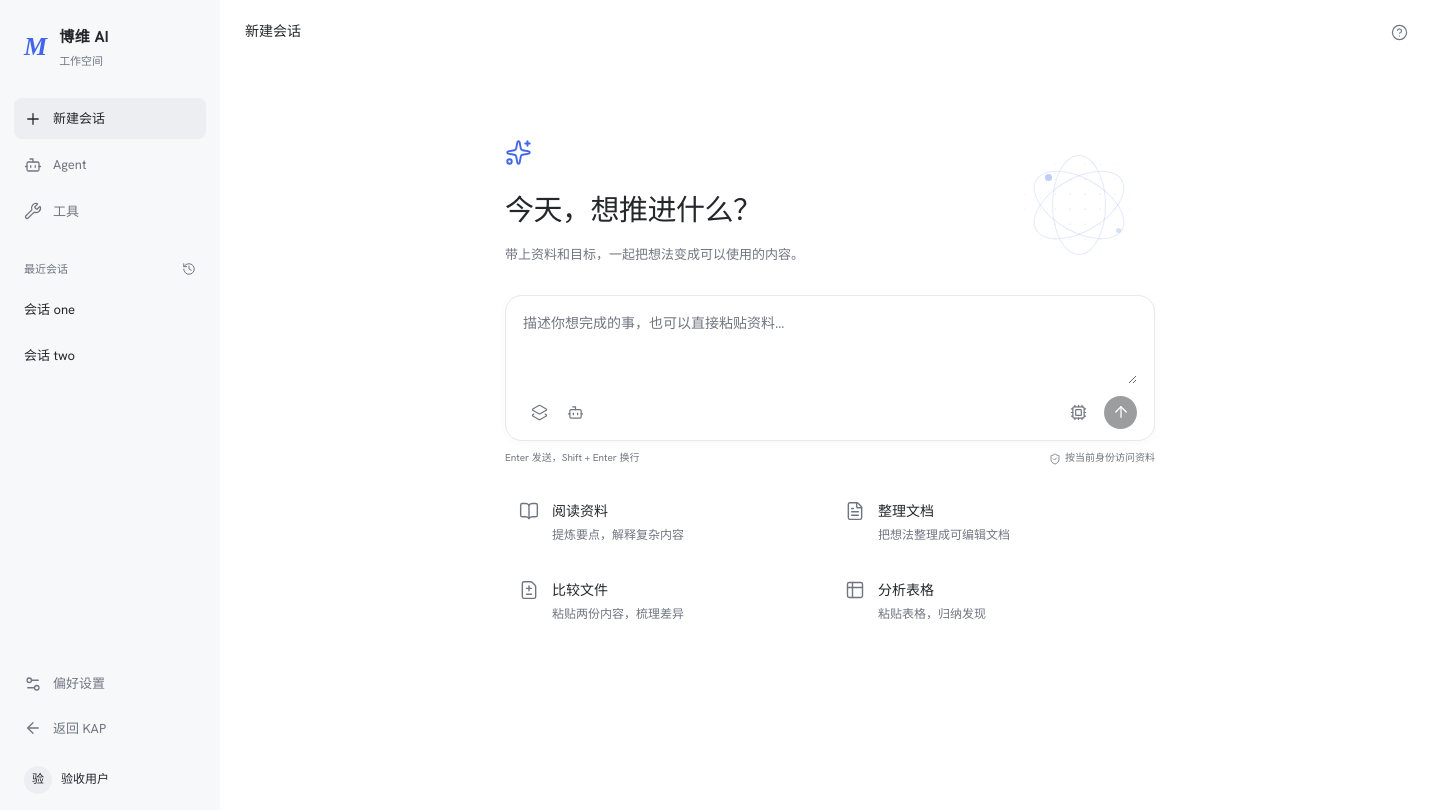
Test case: AI workspace lifecycle › can remove an Agent while retaining the same draft and defaults to an available company library
The width and height of the screenshot is (1440, 810).
Type "保留这段输入" into the text box named "消息".
click(830, 348); type("保留这段输入")  # box 523,311 -> 1137,384
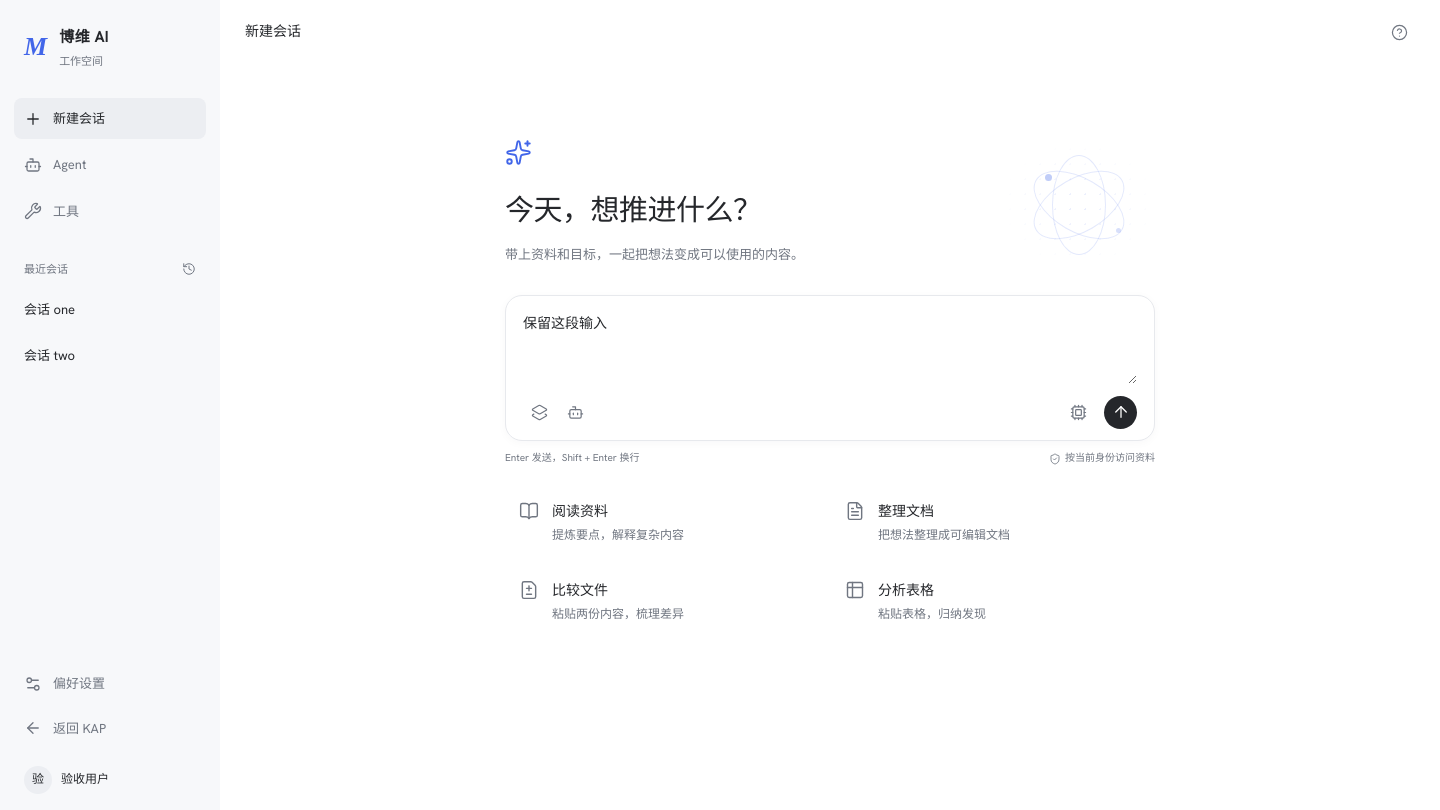
Click the button named "添加智能体".
click(575, 412)  # box 559,396 -> 591,428
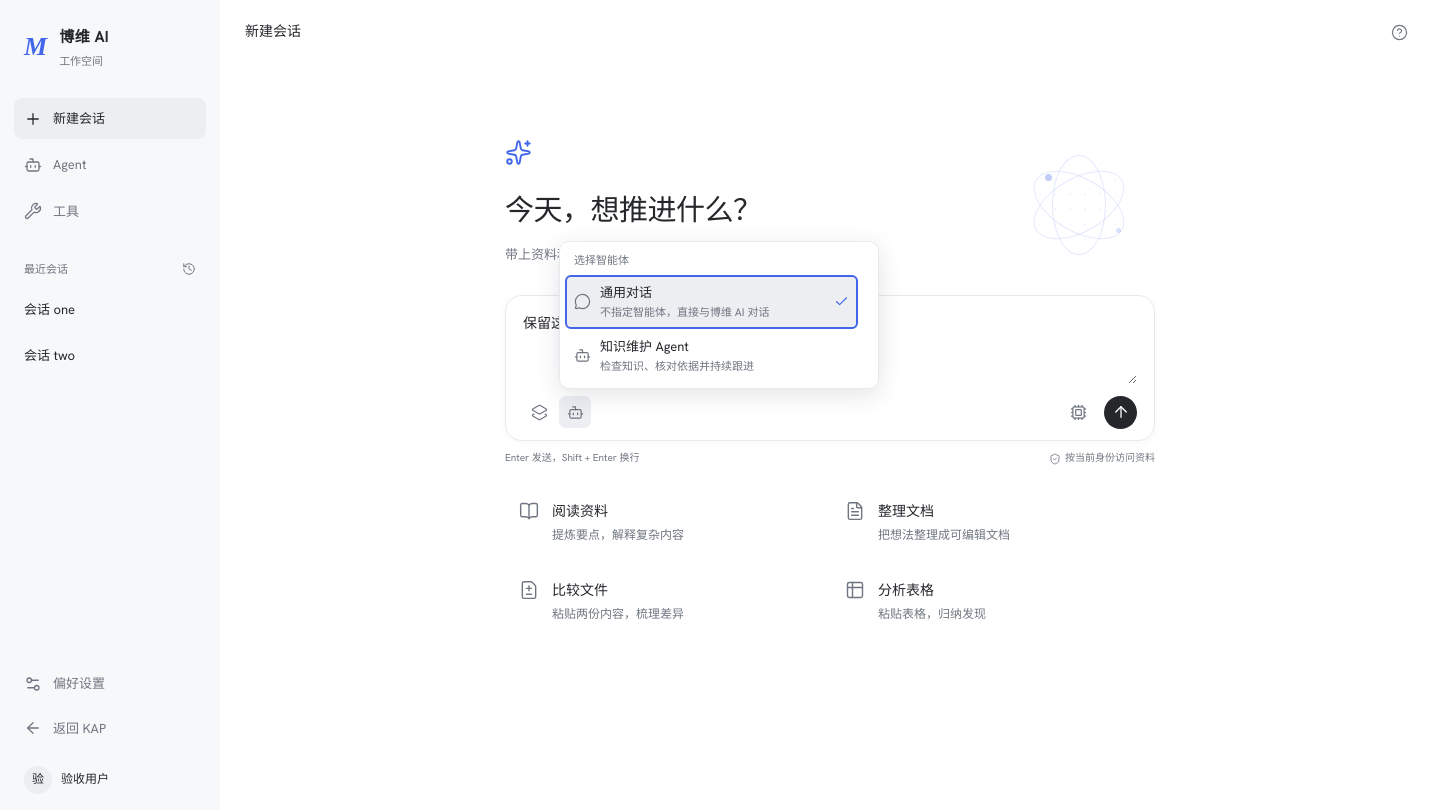
Click the menu item "知识维护 Agent 检查知识、核对依据并持续跟进".
click(644, 347)  # box 565,328 -> 858,382
Wait 1 ms
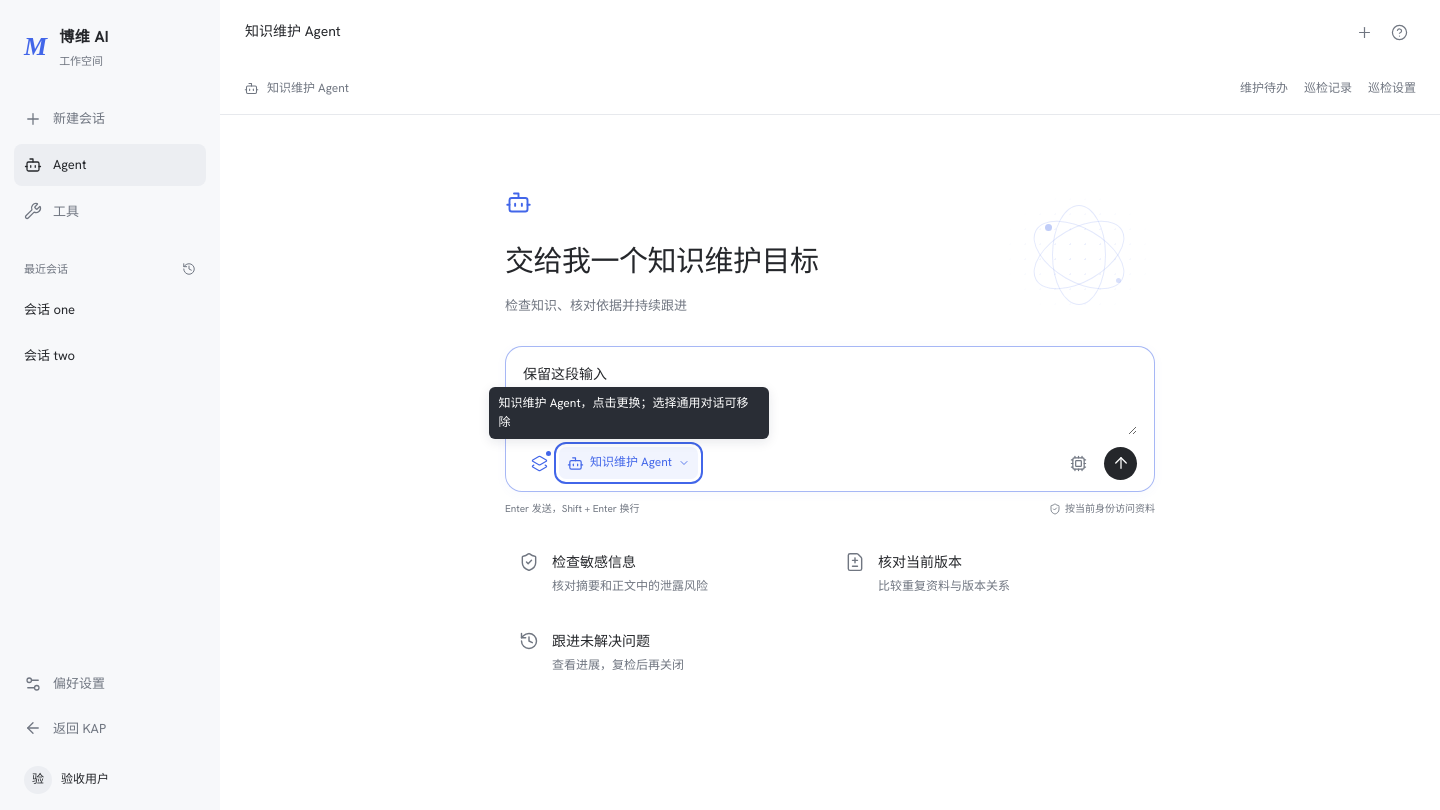
Check: the button named "添加上下文" has attribute data-selected="true", box 523,447 -> 555,479
Click the button "知识维护 Agent".
click(628, 463)  # box 559,447 -> 698,479
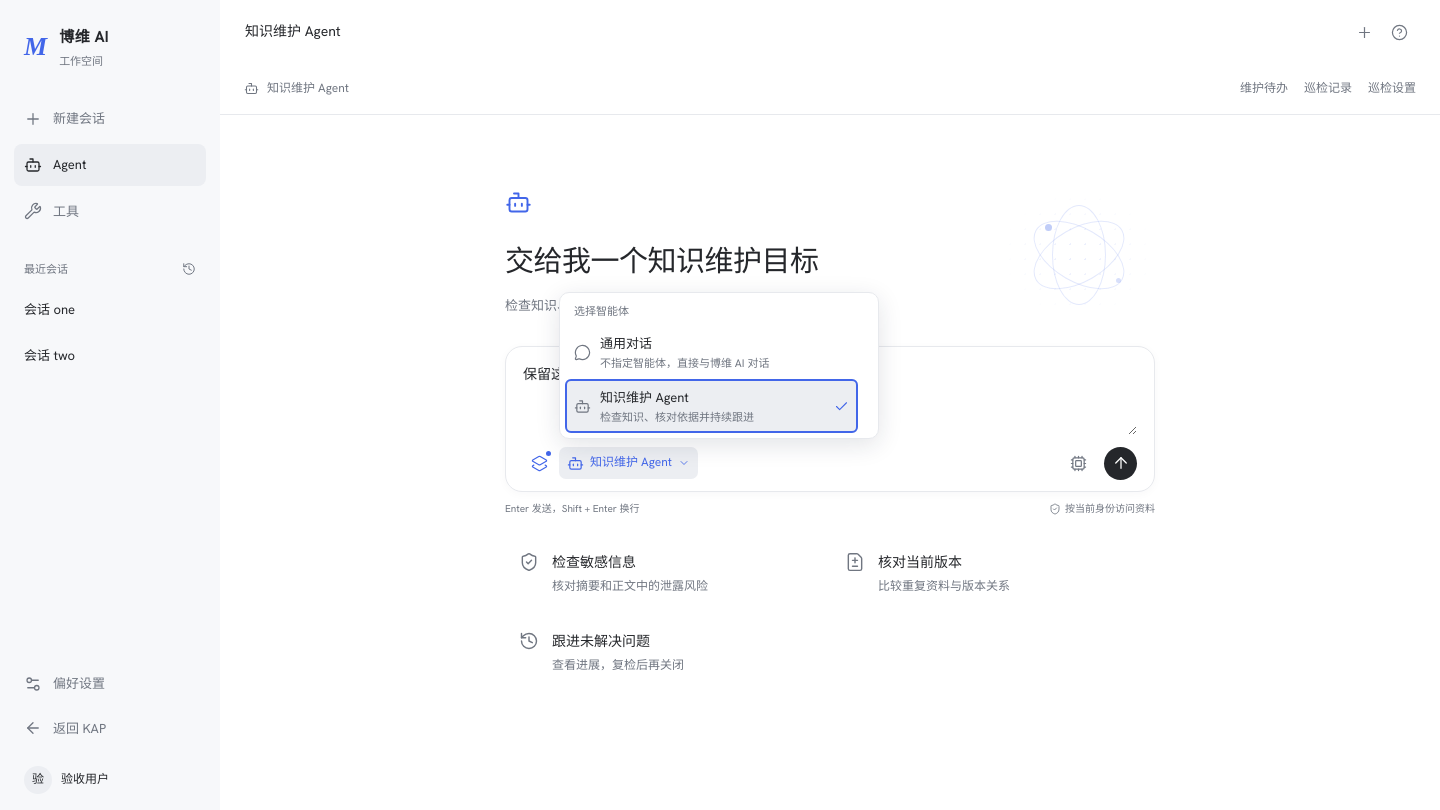
Click the menu item "通用对话 不指定智能体，直接与博维 AI 对话".
click(626, 343)  # box 565,325 -> 858,379
Wait 1 ms
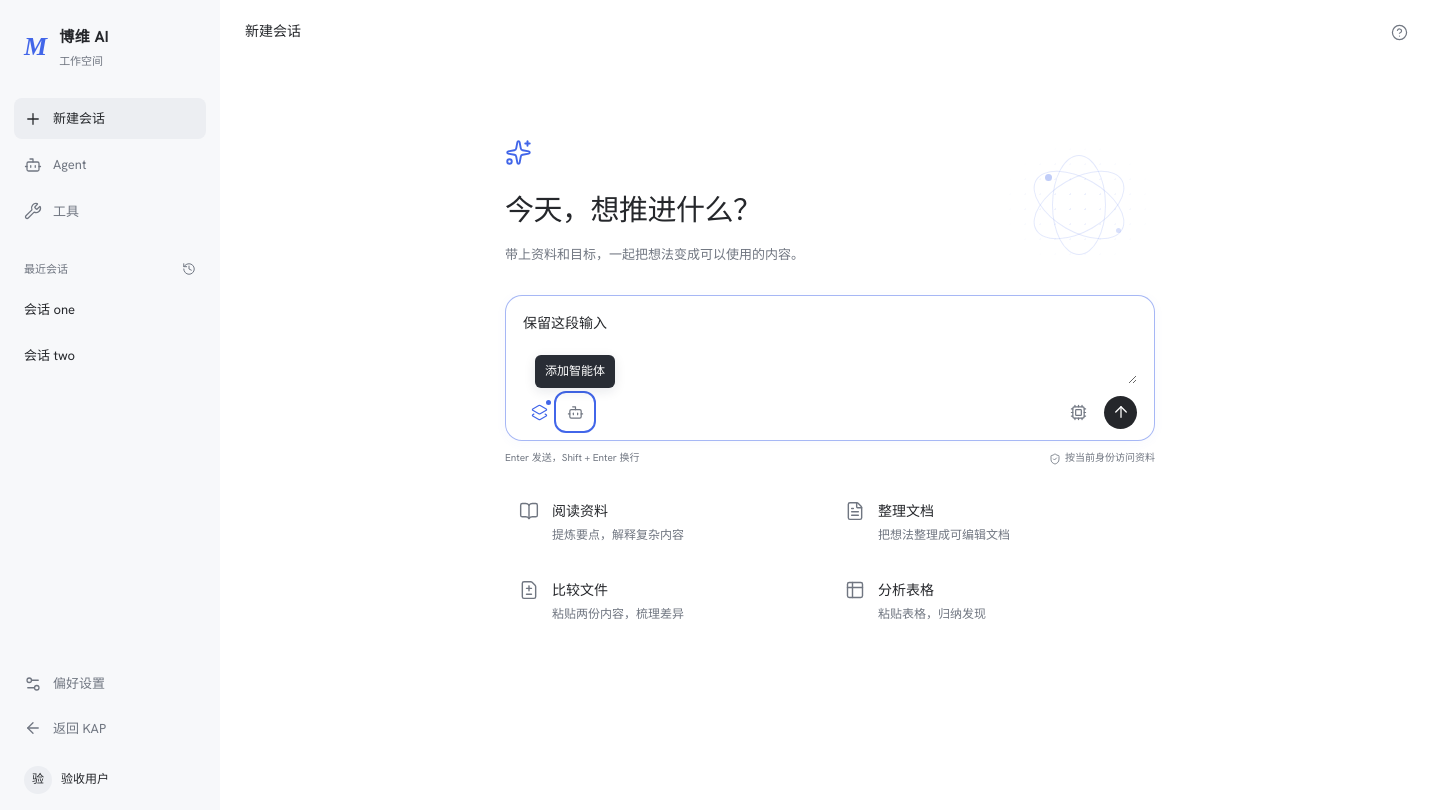
Check: the heading "今天，想推进什么？" is shown, box 505,191 -> 762,229
